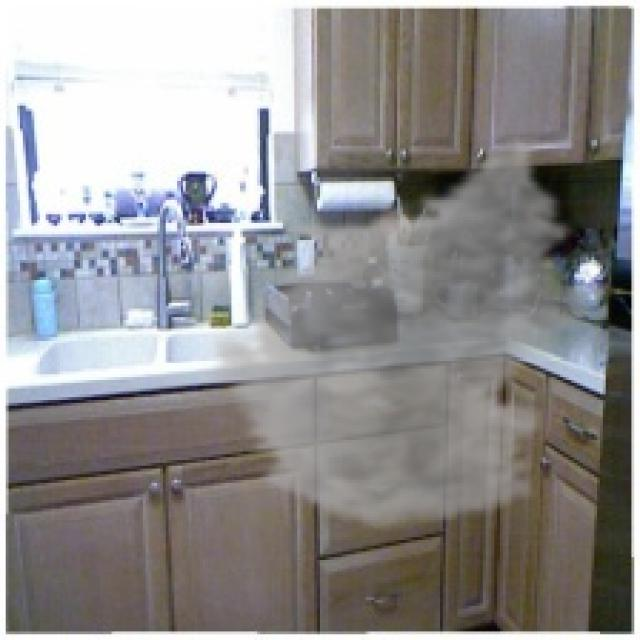smoke: (194, 132, 600, 534)
